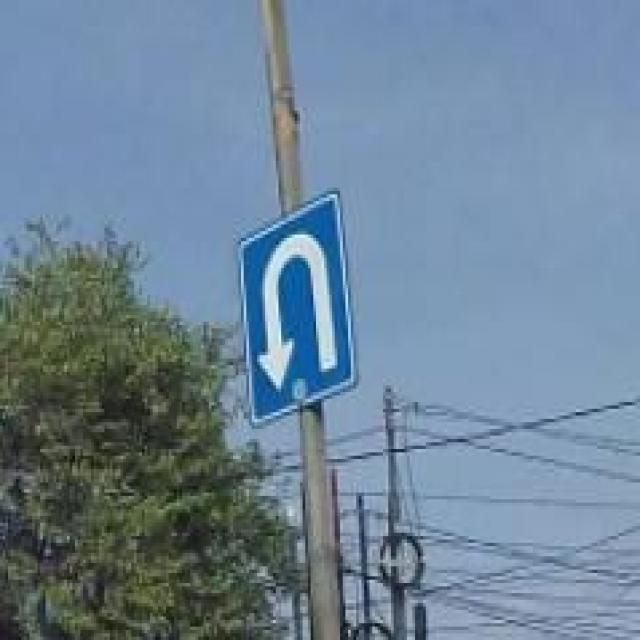U-turn: (238, 190, 352, 430)
